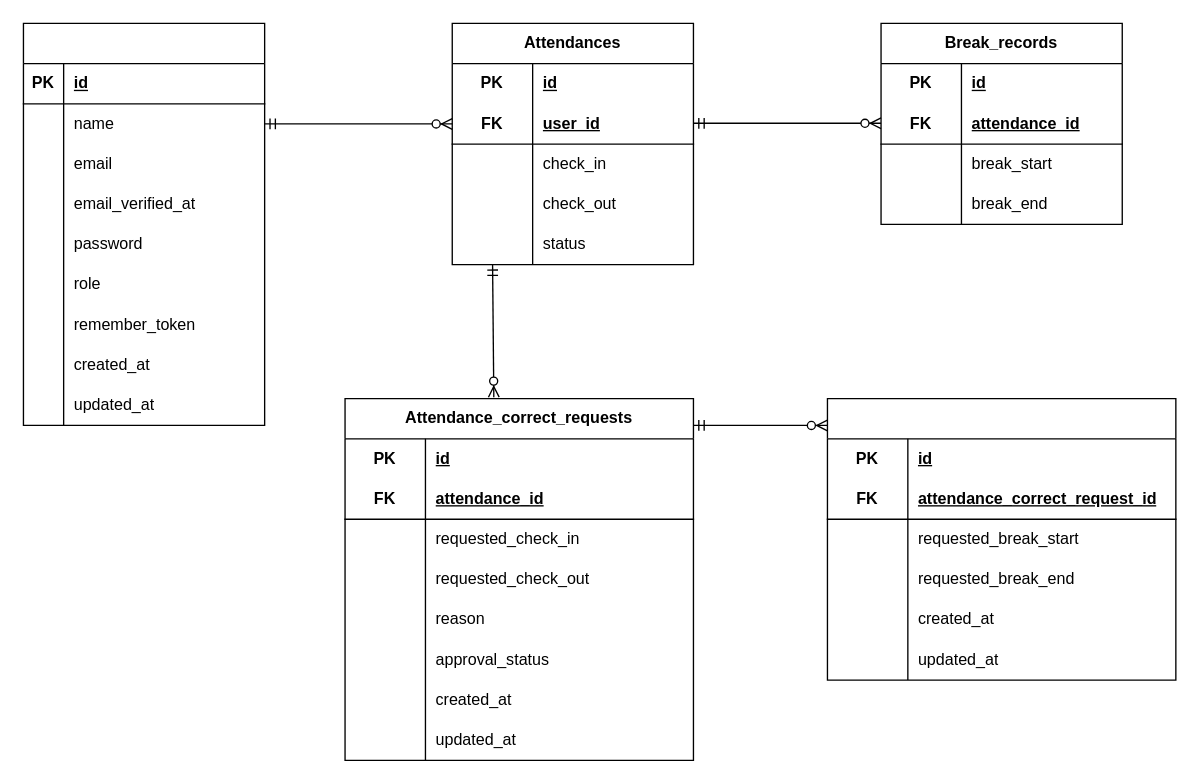
Image size: 1199x784. Some labels were removed from this diagram. Here are the shapes that lost their labels. From the top down, the box of each, then its label:
(22, 22, 265, 425): Users
(826, 397, 1176, 680): Break_correct_requests
